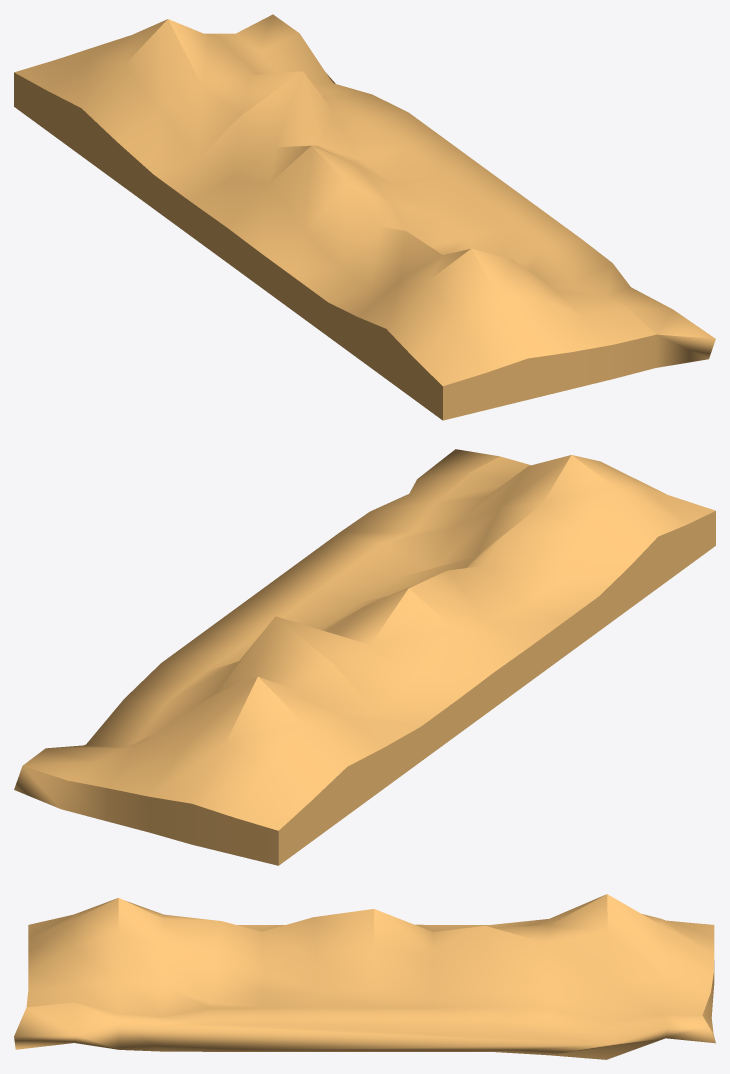
3 views of the same model, one above another, from view 1: azimuth 30°, elevation 25°; view 2: azimuth 150°, elevation 25°; view 3: azimuth 270°, elevation 25° (orthographic). The views are drawn at different scales.
Parts seen in each view (by area): view 1: base; view 2: base; view 3: base.
Boxes of the visible parts, x1=… form: base: x1=14, y1=14, x2=715, y2=420; base: x1=14, y1=449, x2=715, y2=865; base: x1=14, y1=894, x2=715, y2=1059.
Bounding box in the file's own units: 3466 × 1573 × 9970.
